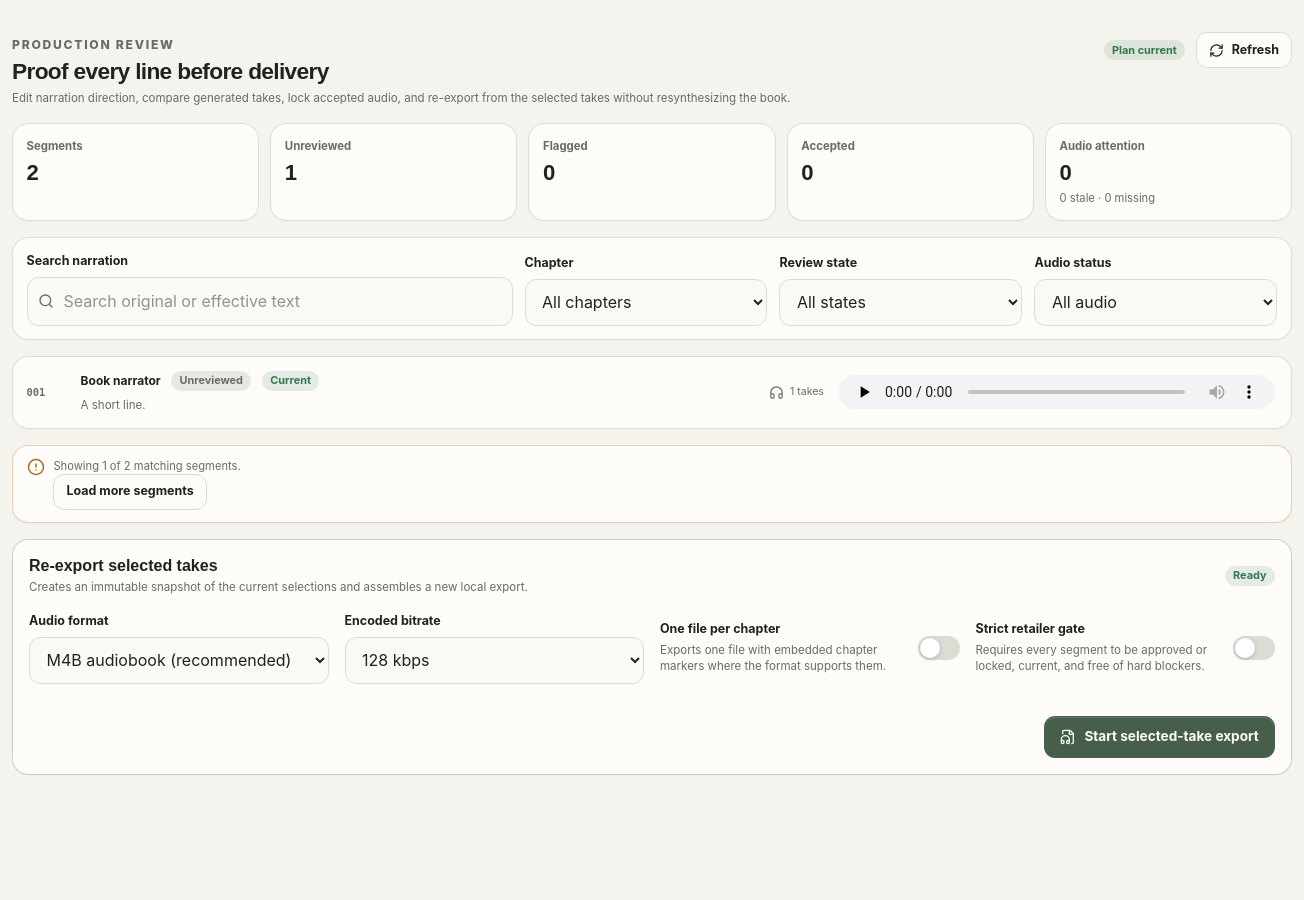
Test: proofing workbench › loads every cursor page instead of stopping at the first segment limit
Check: the button "001 Book narrator Unreviewed Current A short line. 1 takes" is shown, box [13,357,838,428]
Click the button "Load more segments".
click(130, 492)  # box [53,474,207,510]
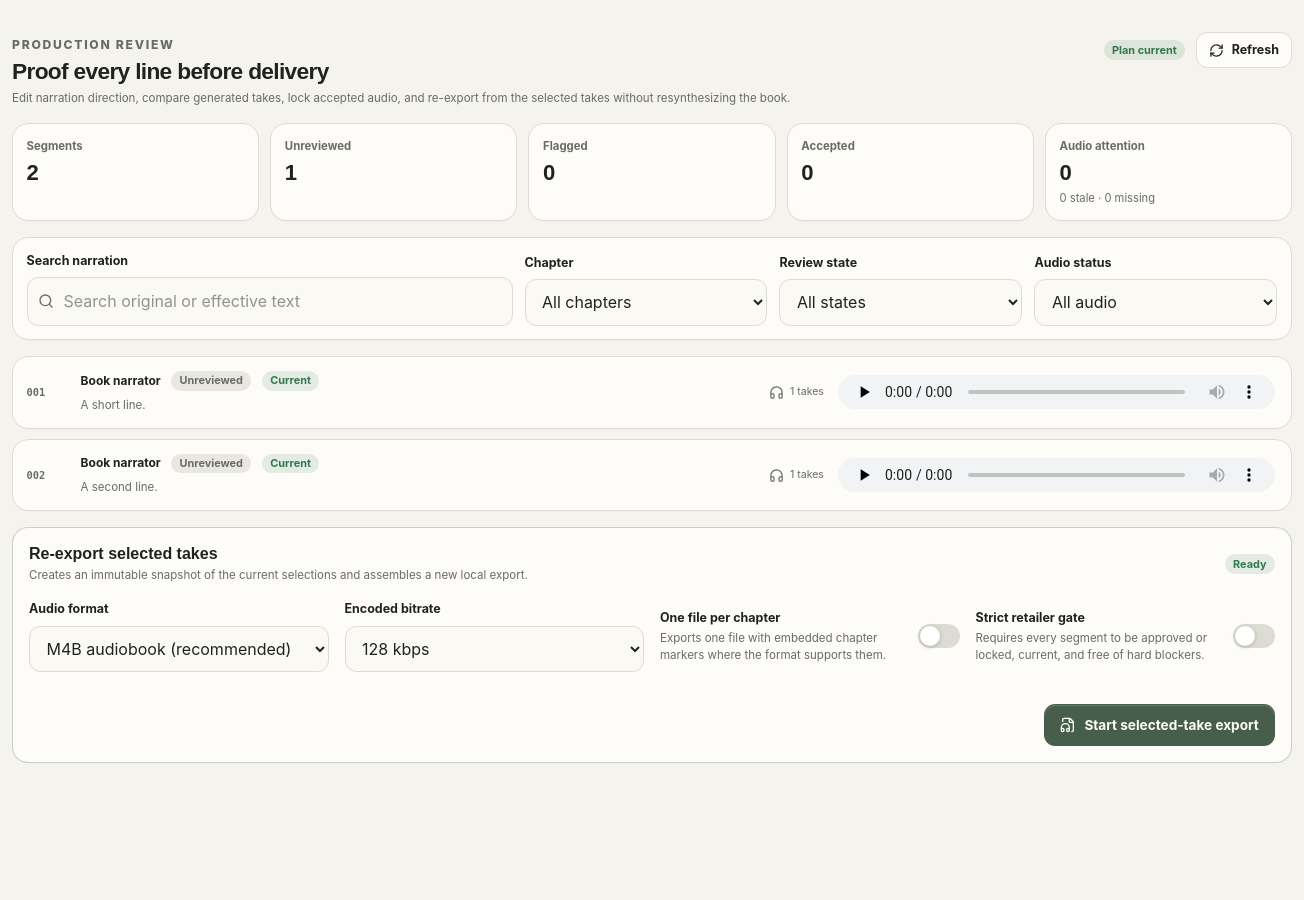
Check: the button "002 Book narrator Unreviewed Current A second line. 1 takes" is shown, box [13,440,838,510]
